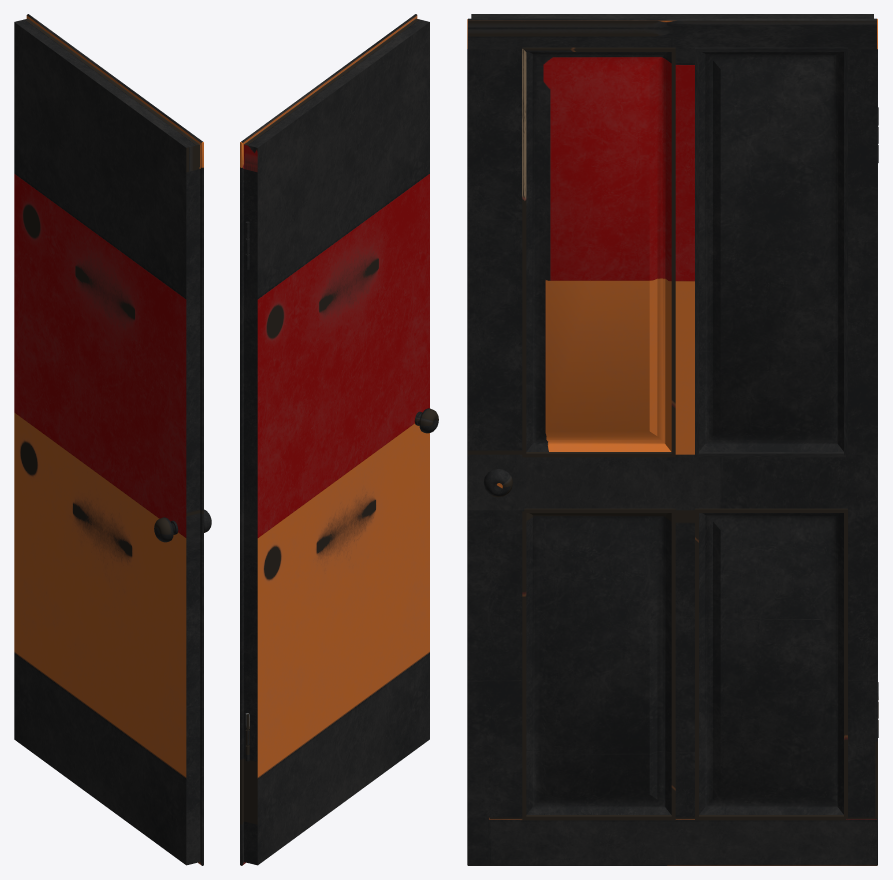
File: door.fbx
3 views of the same model, side by side, from view 1: azimuth 30°, elevation 25°; view 2: azimuth 150°, elevation 25°; view 3: azimuth 270°, elevation 25° (orthographic). The views are drawn at different scales.
Visible parts, largest first — view 1: Symmetry__0; view 2: Symmetry__0; view 3: Symmetry__0.
Part boxes in pixels (x1=…): Symmetry__0: x1=14, y1=14, x2=211, y2=865; Symmetry__0: x1=240, y1=14, x2=438, y2=865; Symmetry__0: x1=467, y1=14, x2=878, y2=865.
Bounding box in the file's own units: 20.03 × 271 × 120.
